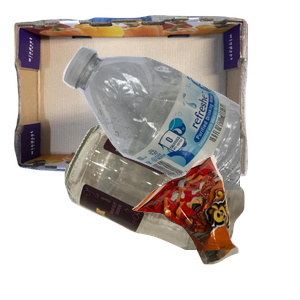cardboard: (11, 13, 251, 182)
glass: (62, 120, 300, 300)
plastic: (60, 44, 300, 224)
trash: (130, 153, 300, 300)
